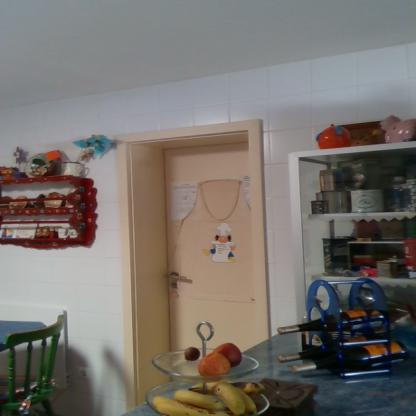door: (162, 148, 258, 376)
lever: (164, 272, 193, 286)
